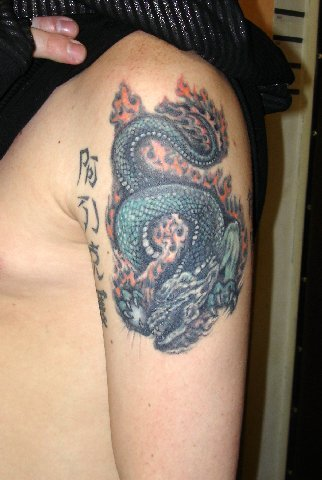tatu7_zmeya: (103, 77, 252, 366)
